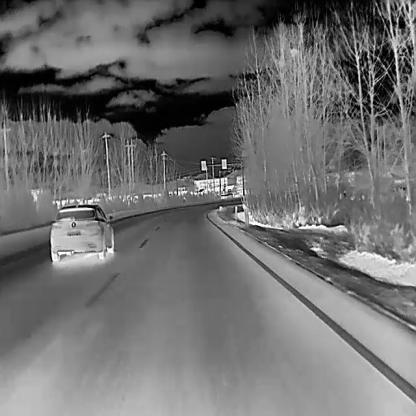car: (50, 202, 115, 262)
